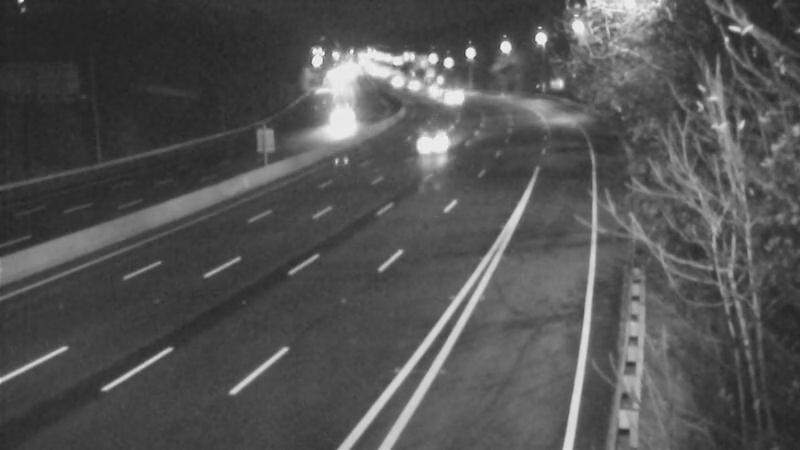vehicle: (372, 58, 422, 108), (386, 61, 436, 111), (412, 65, 462, 115), (427, 71, 477, 121), (416, 112, 466, 162), (316, 99, 366, 149)
